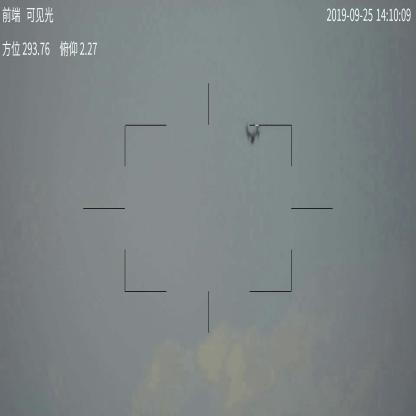uav: (244, 123, 262, 145)
